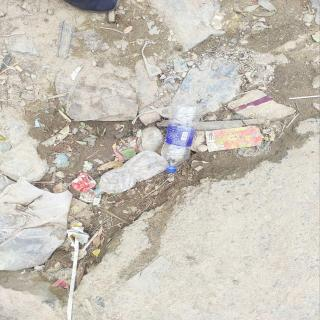Plastic-bottle: (160, 99, 204, 176)
